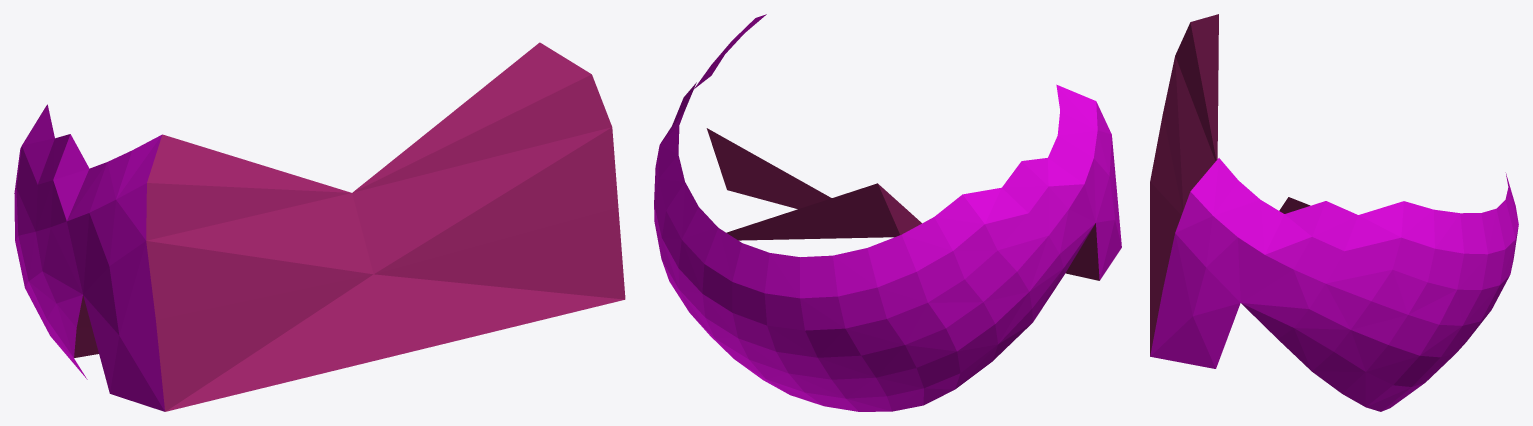
The picture shows the model from 3 angles, left to right: view 1: azimuth 30°, elevation 25°; view 2: azimuth 150°, elevation 25°; view 3: azimuth 270°, elevation 25°; orthographic projection. The views are drawn at different scales.
Visible parts, largest first — view 1: shape; view 2: shape; view 3: shape.
Part boxes in pixels (x1,y1,x2,y2): shape: (14,42,625,411); shape: (654,14,1121,411); shape: (1150,14,1518,411).
Size of the model in its own units: 55.76 by 39.94 by 44.79.
